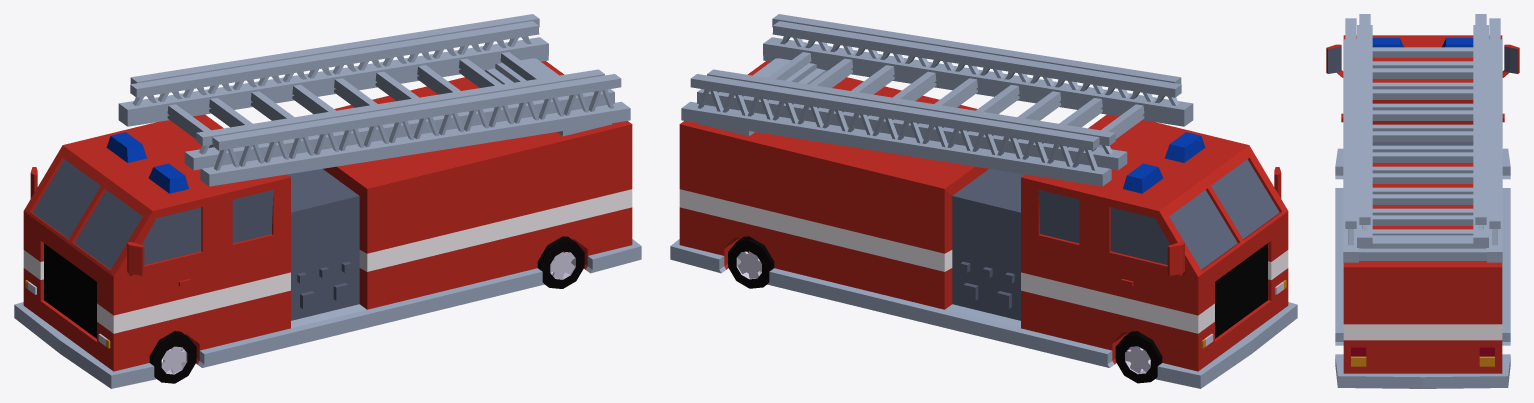
File: firetruck.glb
3 renders of one model, left to right at view 1: azimuth 30°, elevation 25°; view 2: azimuth 150°, elevation 25°; view 3: azimuth 270°, elevation 25°, orthographic. The views are drawn at different scales.
Parts seen in each view (by area): view 1: chassis, flwheel, blwheel; view 2: chassis, frwheel, brwheel; view 3: chassis.
Part boxes in pixels (bbox=[...]): chassis: bbox=[14, 14, 641, 388]; flwheel: bbox=[149, 331, 196, 383]; blwheel: bbox=[537, 236, 584, 288]; chassis: bbox=[670, 14, 1297, 388]; frwheel: bbox=[1115, 331, 1162, 383]; brwheel: bbox=[728, 236, 774, 288]; chassis: bbox=[1326, 14, 1519, 388].
Size of the model in its own units: 9.6 by 3.96 by 3.41.
